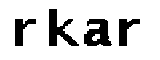a: (83, 16, 112, 49)
k: (44, 6, 80, 49)
r: (115, 16, 144, 52), (12, 17, 38, 51)
